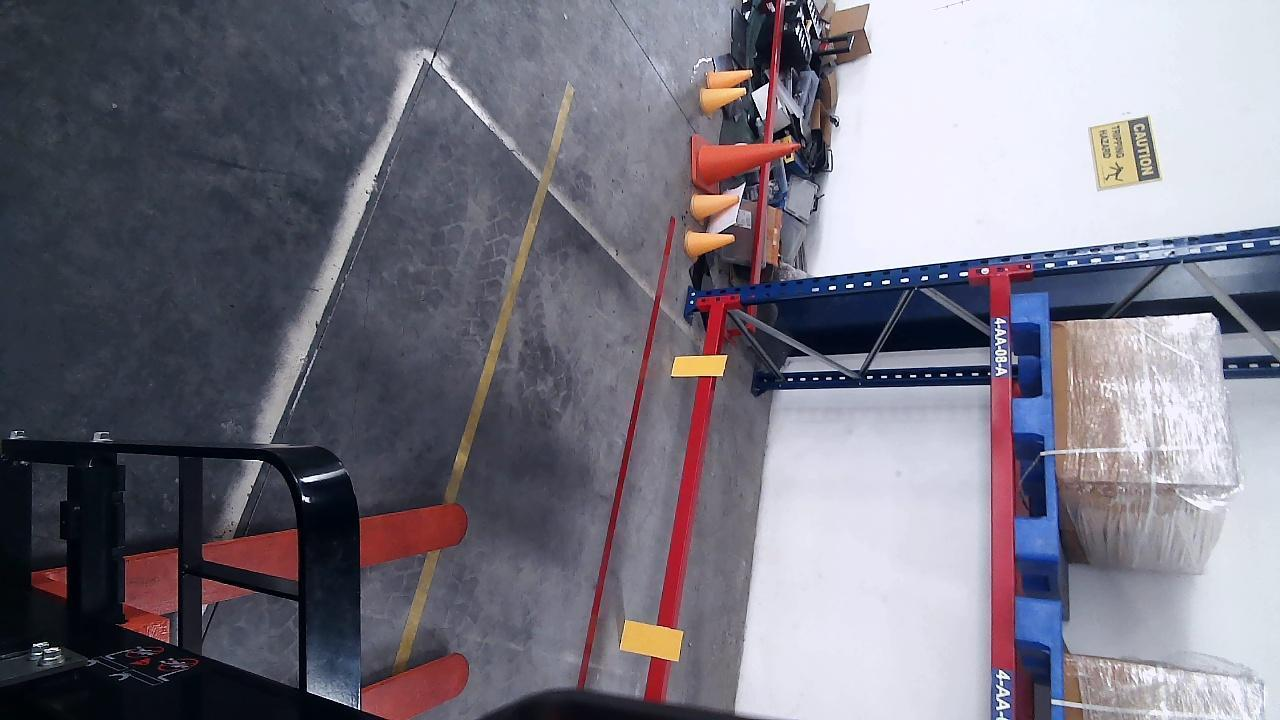red_line: (575, 218, 676, 691)
yellow_line: (444, 83, 579, 506)
